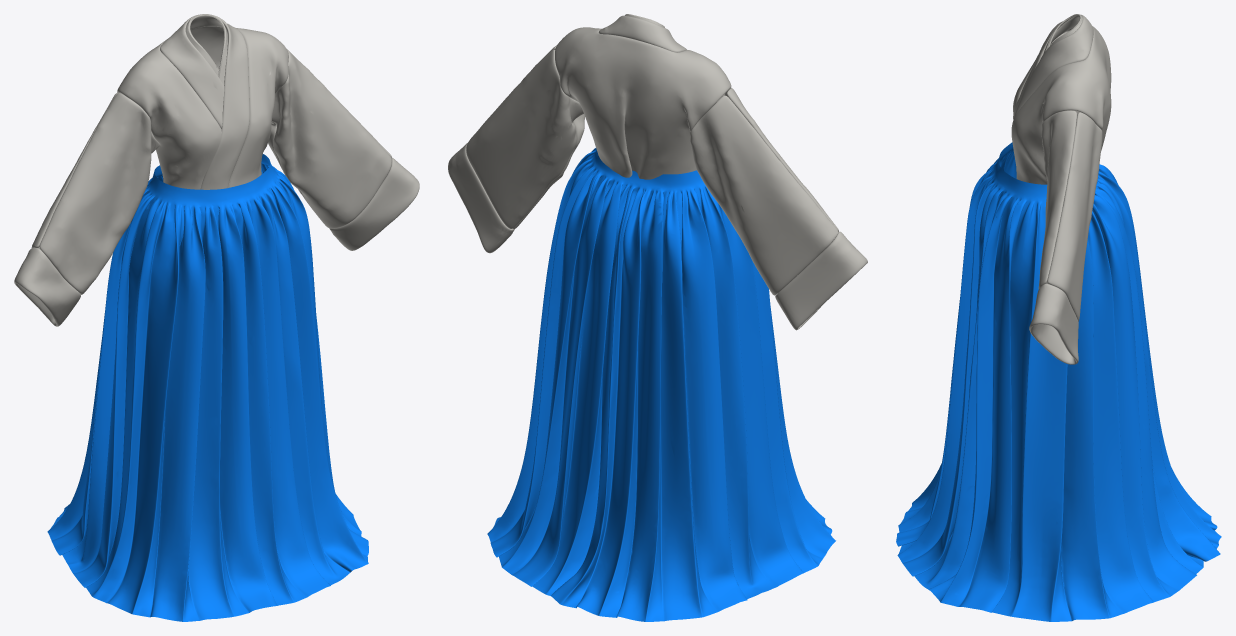
3 renders of one model, left to right at view 1: azimuth 30°, elevation 25°; view 2: azimuth 150°, elevation 25°; view 3: azimuth 270°, elevation 25°, orthographic. The views are drawn at different scales.
Parts seen in each view (by area): view 1: CL_24CL0008_High, CL_24CL0007_High; view 2: CL_24CL0008_High, CL_24CL0007_High; view 3: CL_24CL0008_High, CL_24CL0007_High.
Part boxes in pixels (box(x1,y1,x2,y2)): CL_24CL0008_High: box(47, 154, 368, 621); CL_24CL0007_High: box(14, 14, 419, 326); CL_24CL0008_High: box(487, 148, 835, 621); CL_24CL0007_High: box(448, 14, 867, 330); CL_24CL0008_High: box(896, 142, 1221, 621); CL_24CL0007_High: box(1011, 14, 1111, 364).
Bounding box in the file's own units: 1.09 × 1.36 × 0.7489.
Materials: 2 (2 with a texture image).
